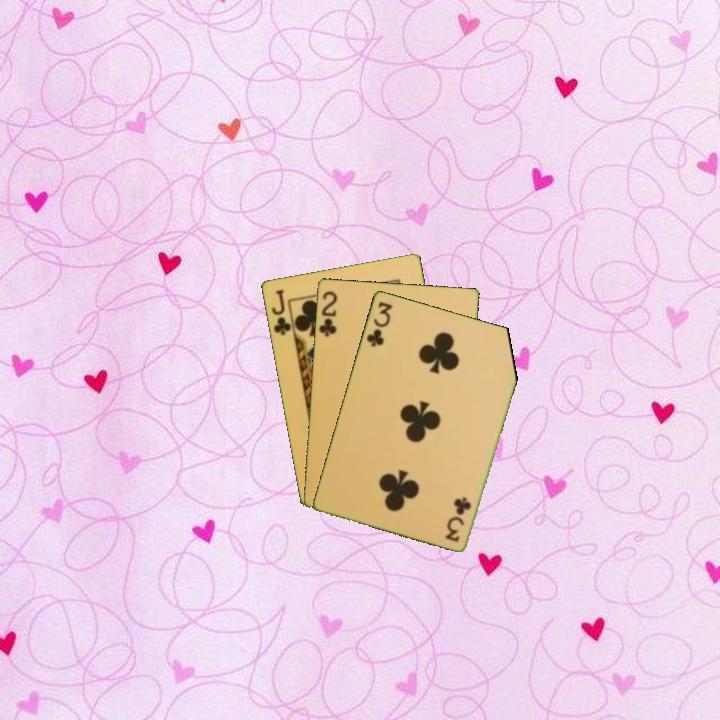2c: (315, 287, 340, 339)
3c: (363, 298, 395, 349), (443, 493, 474, 544)
Jc: (268, 285, 296, 338)
